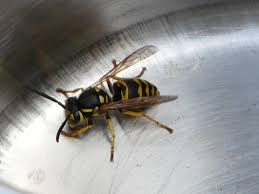chax: (12, 30, 184, 174)
